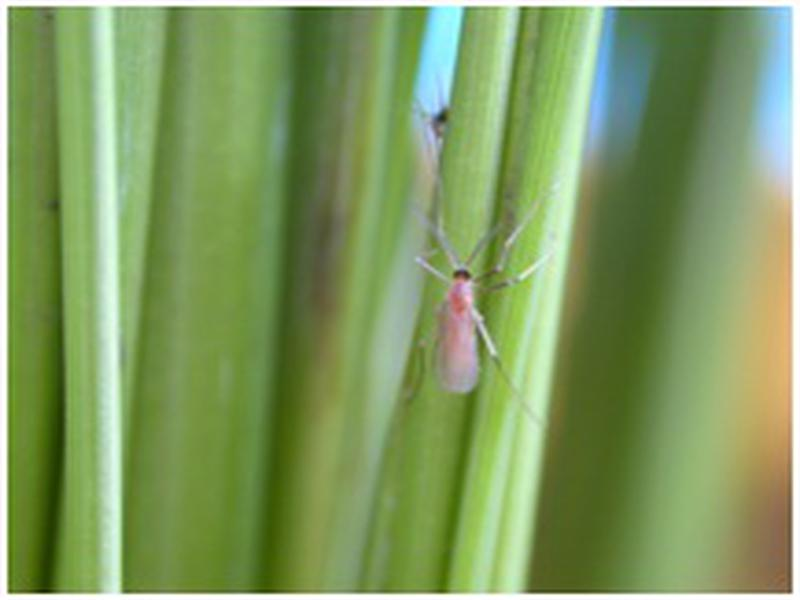Gall_midge: (375, 215, 535, 416)
